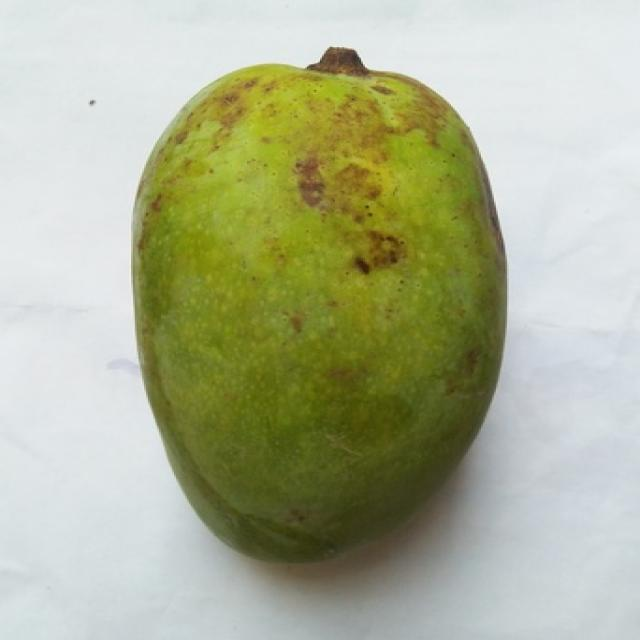Mango: (135, 57, 503, 559)
